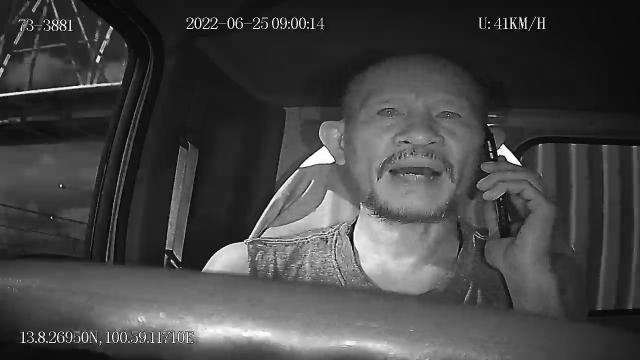PhoneUse: (484, 132, 510, 238)
SafeDriving: (368, 96, 409, 128), (427, 98, 469, 129)
